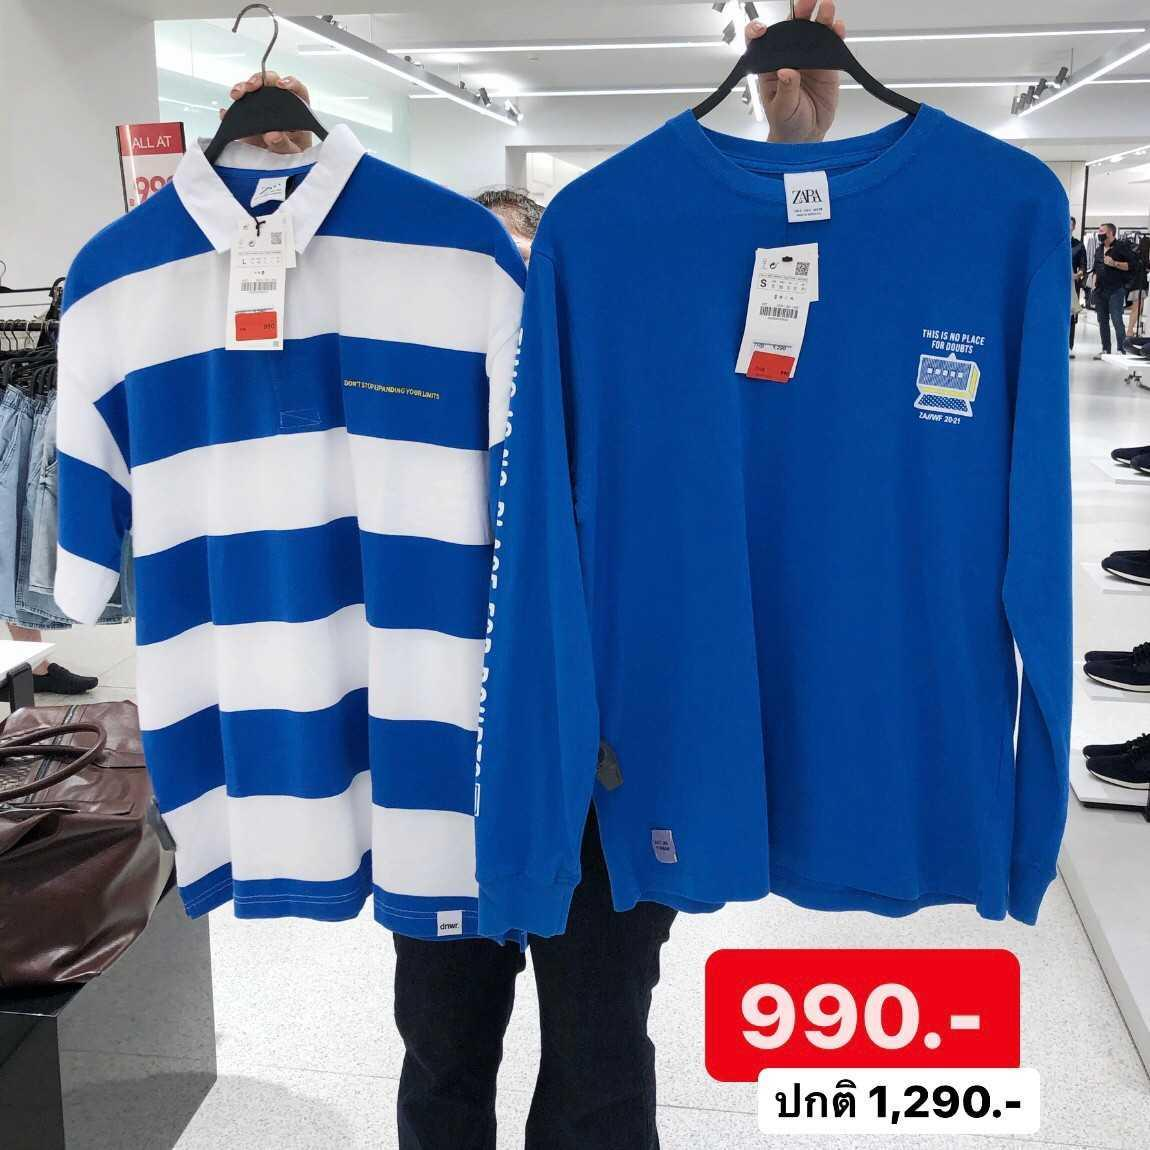Tshirt: (46, 123, 512, 937)
sweater: (483, 116, 1083, 926)
